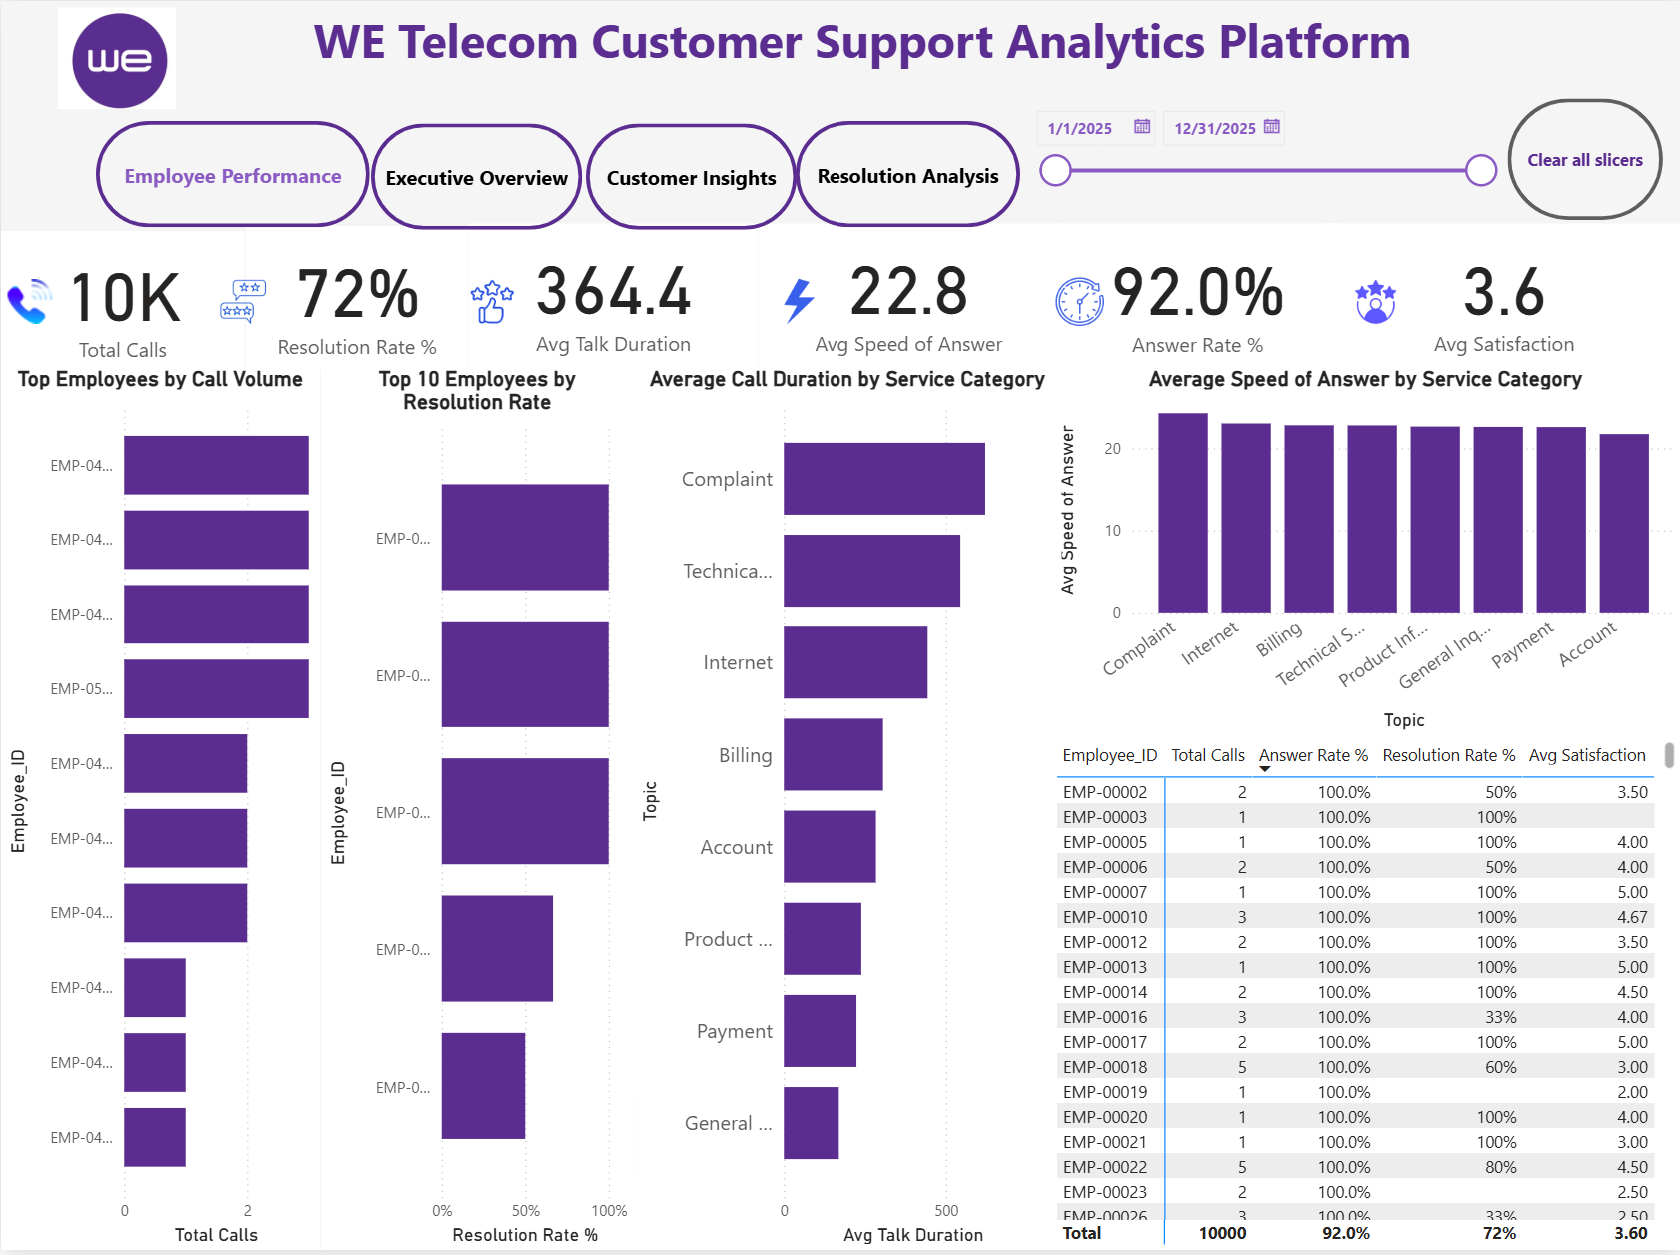

Layout of this report page (visuals, bound fields, positions):
{"tool":"powerbi","page":{"name":" Employee Performance","canvas":[1346,1000],"ordinal":3},"visuals":[{"type":"card","fields":{"Values":["Measure.Total Calls"]},"box":[0,184.1,194.7,112.6],"z":0},{"type":"card","fields":{"Values":["Measure.Avg Satisfaction"]},"box":[1062.5,177.5,282.5,115],"z":1000},{"type":"card","fields":{"Values":["Measure.Avg Speed of Answer"]},"box":[605.3,178.8,241,113.9],"z":2000},{"type":"card","fields":{"Values":["Measure.Avg Talk Duration"]},"box":[373.5,178.8,231.8,113.9],"z":3000},{"type":"image","box":[0,215.9,46.4,49],"z":4000},{"type":"image","box":[361.6,215.9,62.2,49],"z":5000},{"type":"image","box":[1070.1,215.9,60.9,49],"z":6000},{"type":"image","box":[607.9,215.9,62.2,49],"z":7000},{"type":"card","fields":{"Values":["Measure.Answer Rate %"]},"box":[846.3,178.8,223.8,115.2],"z":8000},{"type":"image","box":[835.7,215.9,55.6,49],"z":9000},{"type":"card","fields":{"Values":["Measure.Resolution Rate %"]},"box":[195,180,177.5,115],"z":10000},{"type":"image","box":[162.9,215.9,63.6,49],"z":11000},{"type":"actionButton","box":[1205.7,77.1,124.3,97.1],"z":12000},{"type":"textbox","box":[100.7,0,1178.7,76.8],"z":13000},{"type":"image","box":[0,0,185.4,91.4],"z":14000},{"type":"clusteredBarChart","title":"Top Employees by Call Volume","fields":{"Category":["Employees.Employee_ID"],"Y":["Measure.Total Calls"]},"box":[0,291.7,255,708.3],"z":15000},{"type":"barChart","title":"Top 10 Employees by Resolution Rate","fields":{"Category":["Employees.Employee_ID"],"Y":["Measure.Resolution Rate %"]},"box":[255,291.7,250,708.3],"z":16000},{"type":"columnChart","title":"Average Speed of Answer by Service Category","fields":{"Category":["Calls.Topic"],"Y":["Measure.Avg Speed of Answer"]},"box":[840,291.7,505,296.7],"z":17000},{"type":"barChart","title":"Average Call Duration by Service Category","fields":{"Category":["Calls.Topic"],"Y":["Measure.Avg Talk Duration"]},"box":[505,291.7,343.3,708.3],"z":18000},{"type":"pivotTable","fields":{"Rows":["Employees.Employee_ID"],"Values":["Measure.Total Calls","Measure.Answer Rate %","Measure.Resolution Rate %","Measure.Avg Satisfaction"]},"box":[840,587.5,505,412.5],"z":19000},{"type":"actionButton","box":[636,95,180,85],"z":20000},{"type":"actionButton","box":[467,98,169,85],"z":21000},{"type":"actionButton","box":[295,98,169,85],"z":22000},{"type":"actionButton","box":[76,96,219,85],"z":23000},{"type":"slicer","fields":{"Values":["Calls.Date"]},"box":[815.7,77.1,390,97.1],"z":24000}]}

Visuals, with their boxes in screenshot pixels (x1, y1, x2, y2), scaled from the page's 1346x1000 canvas onto the 1680x1255 screenshot:
card - Measure.Total Calls: 0,231,243,372
card - Measure.Avg Satisfaction: 1326,223,1679,367
card - Measure.Avg Speed of Answer: 756,224,1056,367
card - Measure.Avg Talk Duration: 466,224,756,367
image: 0,271,58,332
image: 451,271,529,332
image: 1336,271,1412,332
image: 759,271,836,332
card - Measure.Answer Rate %: 1056,224,1336,369
image: 1043,271,1112,332
card - Measure.Resolution Rate %: 243,226,465,370
image: 203,271,283,332
actionButton: 1505,97,1660,219
textbox: 126,0,1597,96
image: 0,0,231,115
"Top Employees by Call Volume" clusteredBarChart: 0,366,318,1254
"Top 10 Employees by Resolution Rate" barChart: 318,366,630,1254
"Average Speed of Answer by Service Category" columnChart: 1048,366,1679,738
"Average Call Duration by Service Category" barChart: 630,366,1059,1254
pivotTable - Employees.Employee_ID x Measure.Total Calls: 1048,737,1679,1254
actionButton: 794,119,1018,226
actionButton: 583,123,794,230
actionButton: 368,123,579,230
actionButton: 95,120,368,227
slicer - Calls.Date: 1018,97,1505,219
